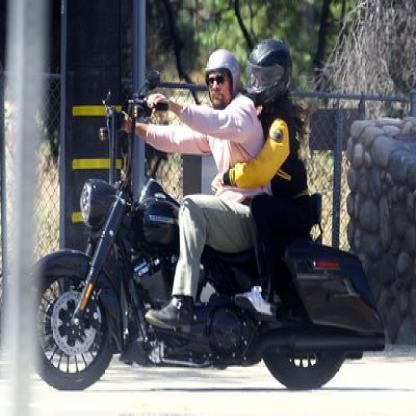helmet: (244, 38, 293, 106), (204, 49, 241, 109)
